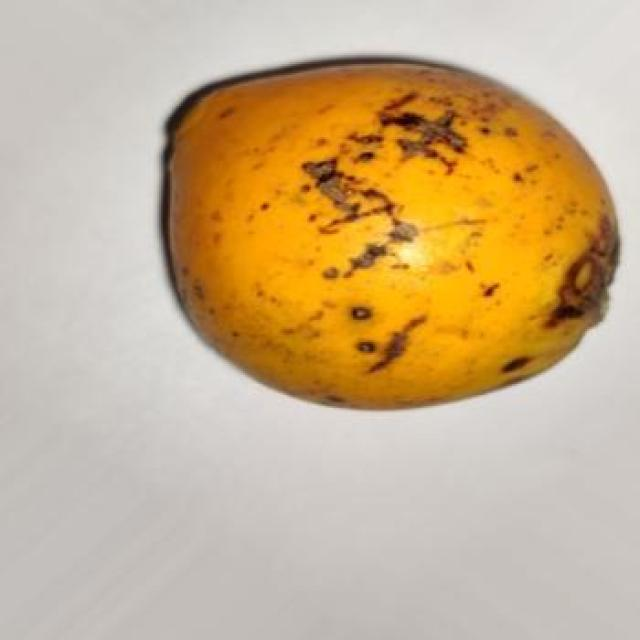good: (159, 57, 622, 413)
